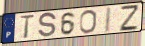6: (60, 11, 77, 36)
I: (104, 6, 113, 34)
O: (79, 9, 97, 35)
S: (37, 11, 58, 40)
T: (19, 14, 36, 40)
Z: (119, 5, 140, 33)
